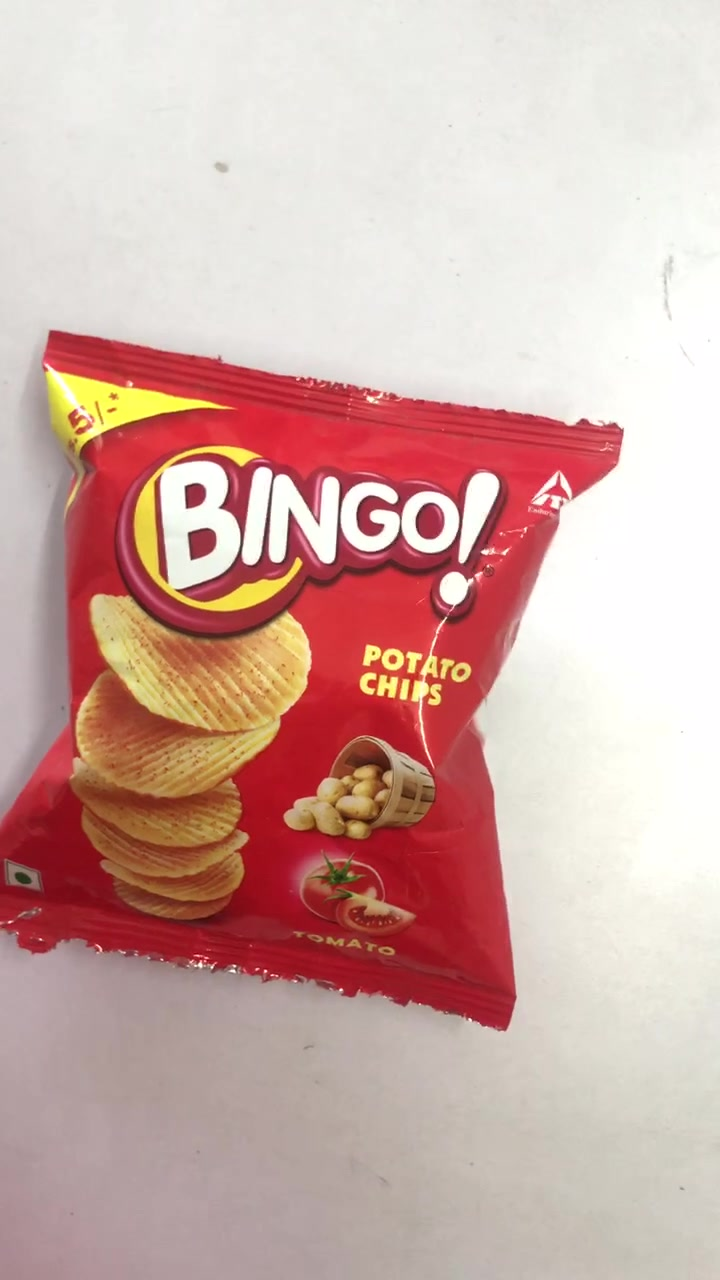Bingo: (5, 335, 610, 1037)
